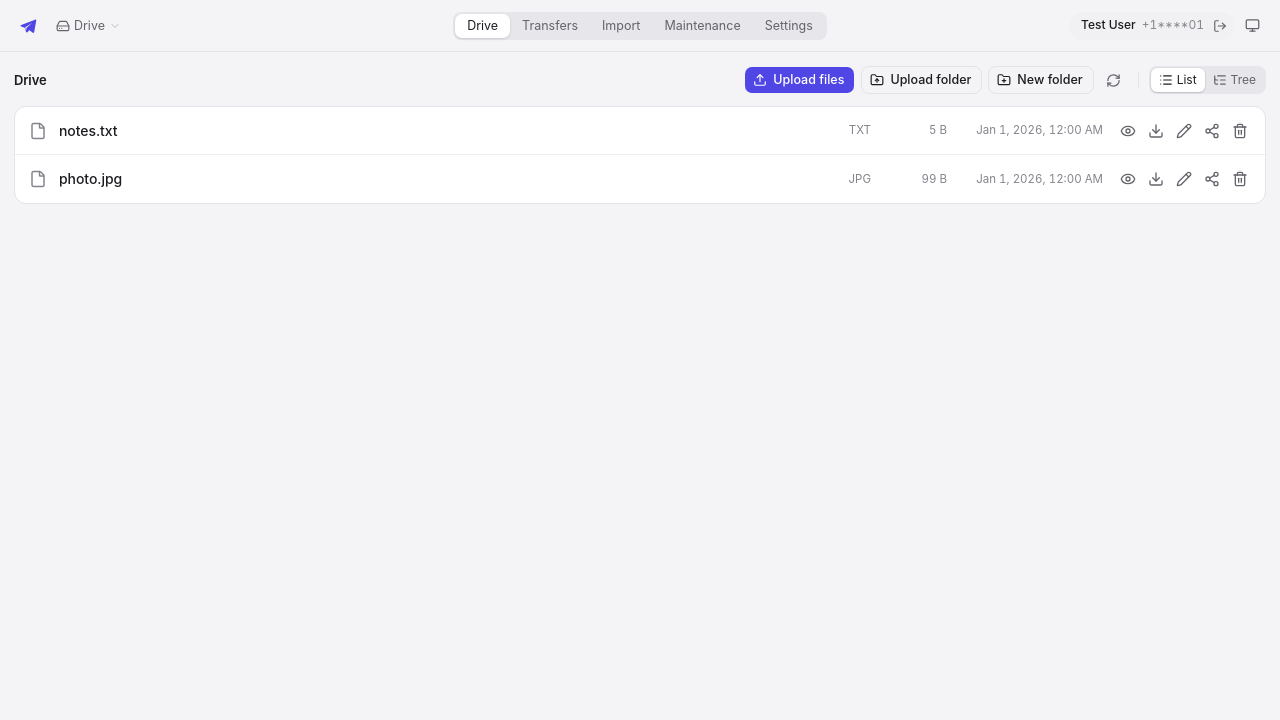
Test: the switcher sheet shows the active channel's status
Expected: the list named "Files in /" is shown, [14, 106, 1266, 204]
Click the button with aria-label "Switch drive" at x=88, y=26, box [48, 12, 129, 40]
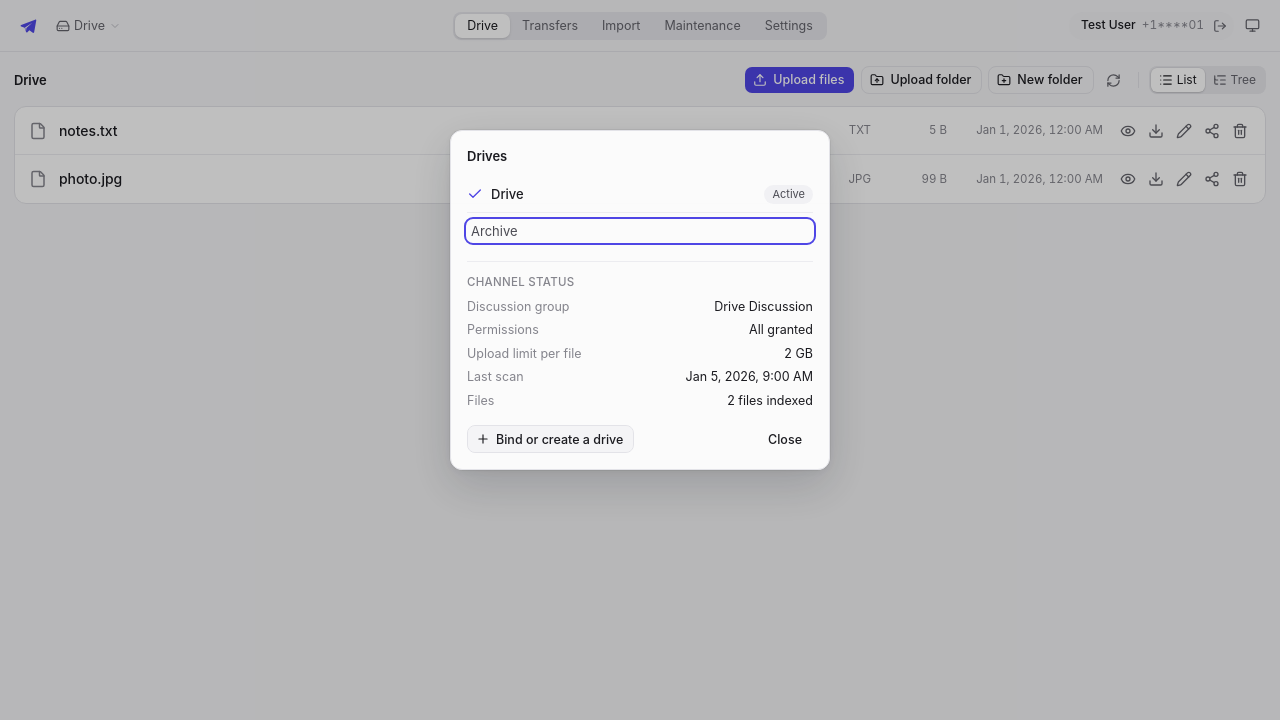
Expected: the list item "Drive" shows "Active", [772, 187, 805, 201]
Expected: the button with aria-label "Switch to Archive" is shown, [467, 220, 813, 242]
Expected: the text "Drive Discussion" is shown, [714, 298, 813, 315]
